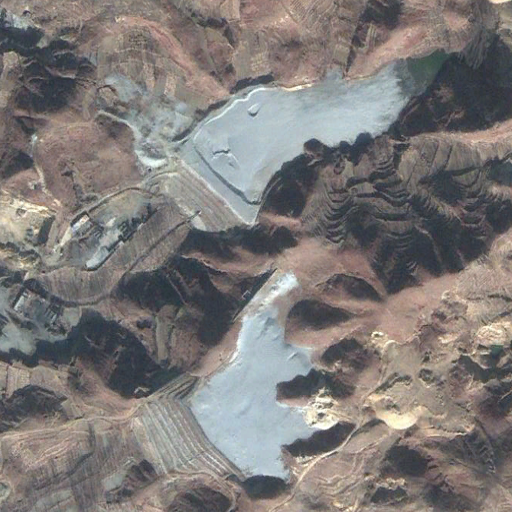tp: (170, 46, 448, 231), (143, 275, 324, 482)
